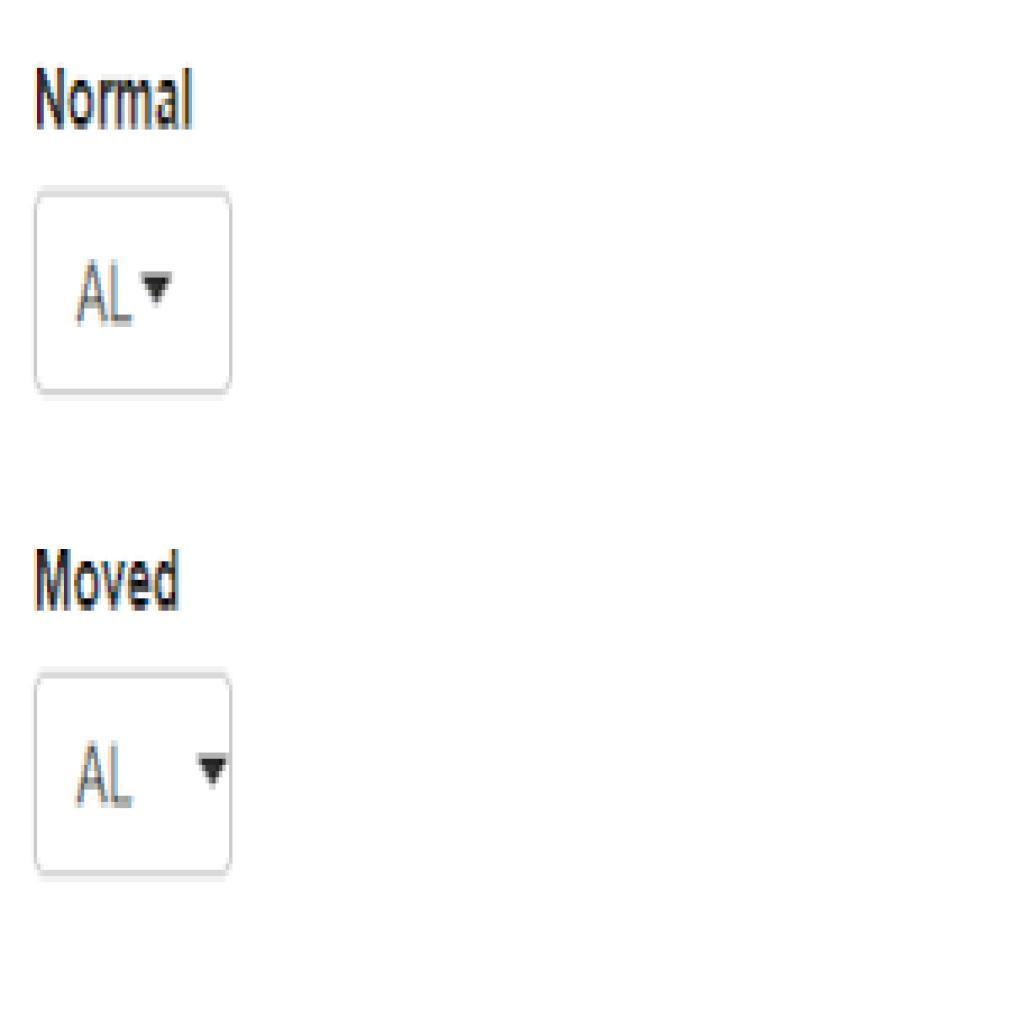dropdown: (35, 191, 232, 395), (39, 674, 228, 876)
label: (31, 541, 187, 626), (30, 62, 205, 137)
